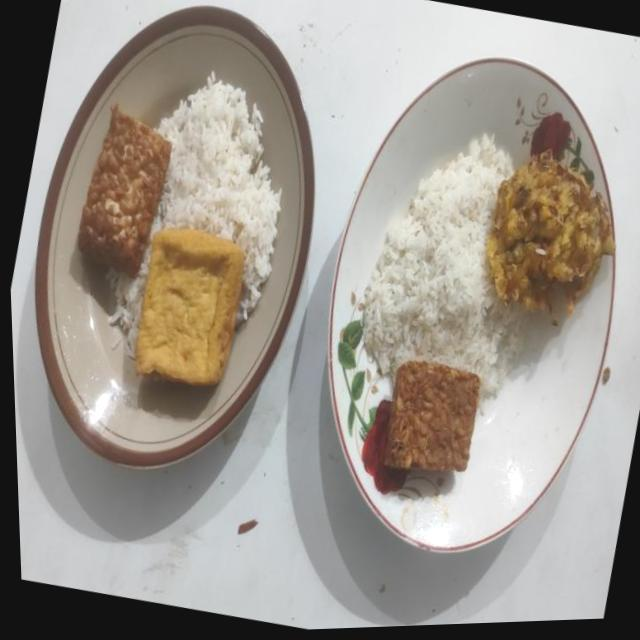nasi_putih: (362, 133, 518, 408), (150, 71, 280, 324), (107, 246, 149, 356)
tahu_goreng: (134, 228, 243, 385)
tempe_goreng: (78, 105, 171, 277), (384, 360, 479, 470)
